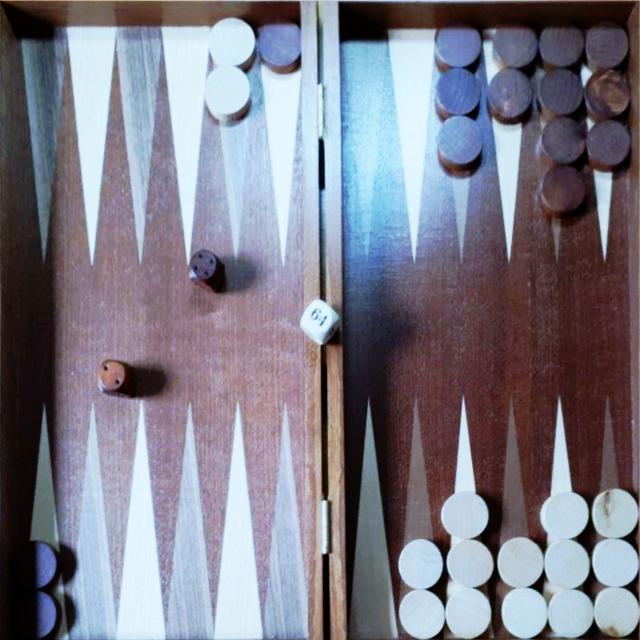bar: (300, 21, 346, 626)
board: (8, 14, 638, 640)
dark_p: (433, 118, 485, 170), (538, 162, 588, 216), (10, 587, 60, 640), (585, 64, 633, 119), (434, 66, 483, 116), (491, 20, 540, 70), (487, 72, 536, 122), (12, 539, 59, 590), (588, 117, 634, 167), (258, 16, 301, 69), (538, 67, 584, 116), (434, 18, 480, 66), (586, 17, 634, 62), (538, 119, 588, 162), (540, 21, 583, 65)
dice: (298, 296, 340, 348), (96, 358, 139, 401), (188, 246, 224, 289)
light_p: (202, 64, 252, 121), (396, 535, 446, 591), (394, 590, 446, 640), (441, 488, 490, 540), (446, 587, 492, 640), (590, 540, 639, 588), (208, 16, 254, 67), (498, 537, 544, 587), (546, 538, 592, 588), (501, 588, 546, 638), (445, 540, 494, 585), (546, 592, 593, 638), (592, 490, 640, 535), (595, 590, 639, 638), (541, 495, 590, 536)
